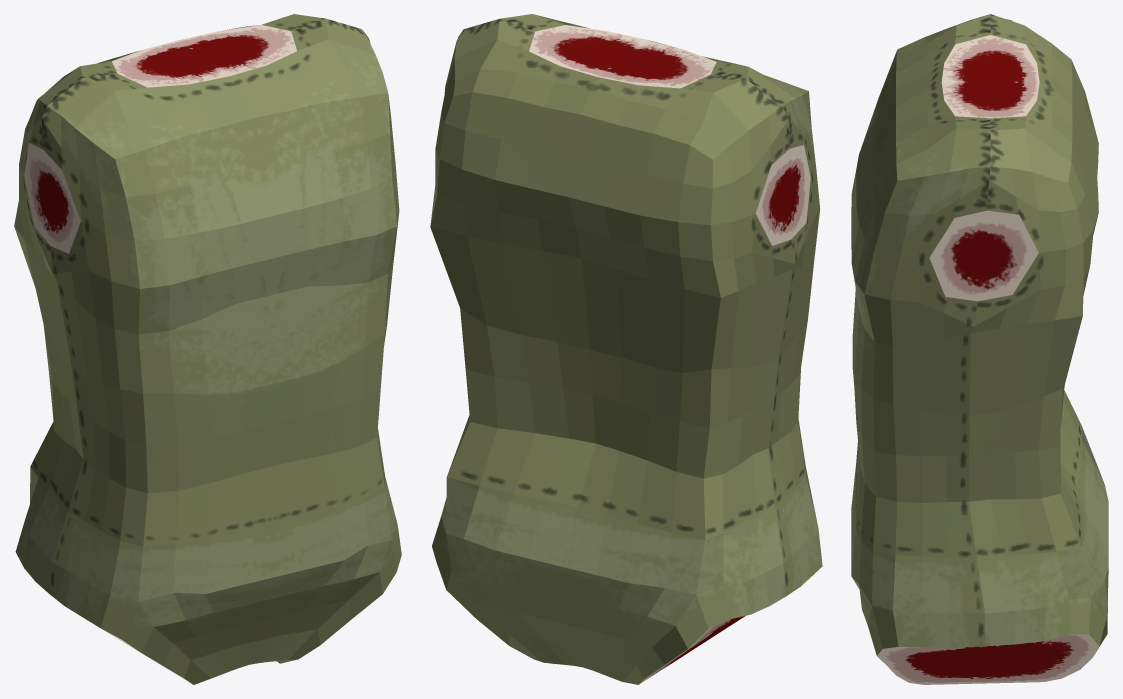
Rendered from lemtorso.fbx.
The picture shows the model from 3 angles, left to right: view 1: azimuth 30°, elevation 25°; view 2: azimuth 150°, elevation 25°; view 3: azimuth 270°, elevation 25°; orthographic projection. The views are drawn at different scales.
Visible parts, largest first — view 1: torso.001; view 2: torso.001; view 3: torso.001.
Part boxes in pixels (x1,y1,x2,y2): torso.001: (14, 14, 401, 684); torso.001: (430, 14, 822, 684); torso.001: (851, 14, 1108, 684).
Size of the model in its own units: 79.86 by 140 by 55.17.
